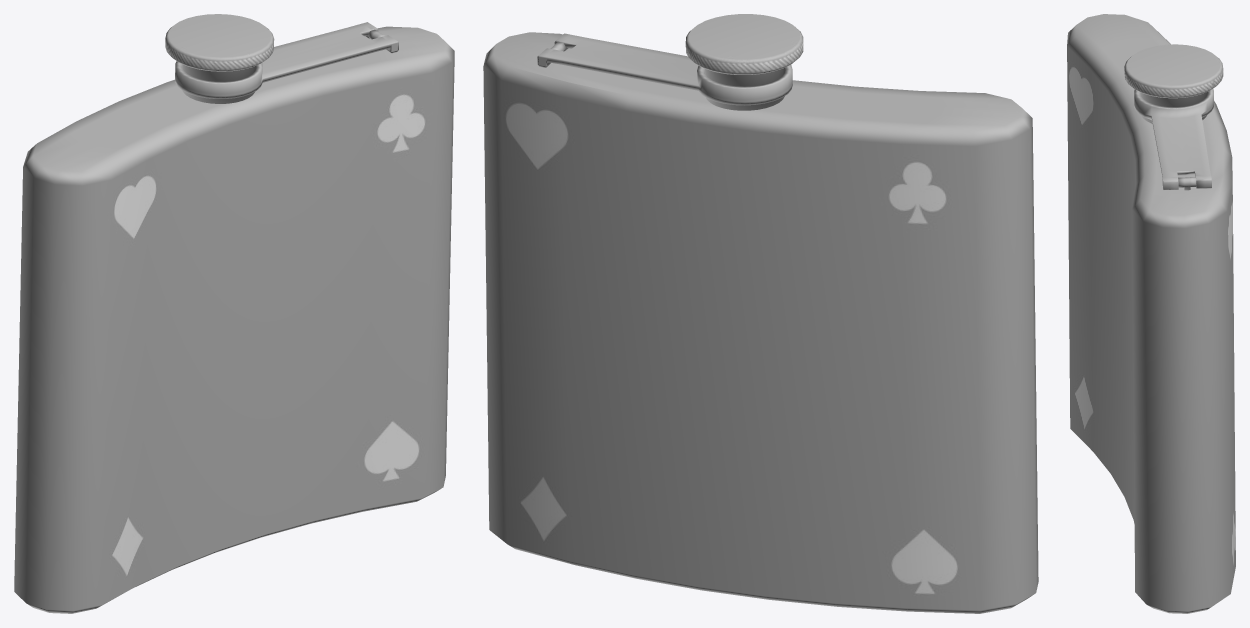
The model's file is flask.obj.
The picture shows the model from 3 angles, left to right: view 1: azimuth 30°, elevation 25°; view 2: azimuth 150°, elevation 25°; view 3: azimuth 270°, elevation 25°; orthographic projection. The views are drawn at different scales.
Visible parts, largest first — view 1: defaultMaterial_Merged_Pljoska.001; view 2: defaultMaterial_Merged_Pljoska.001; view 3: defaultMaterial_Merged_Pljoska.001.
Boxes of the visible parts, x1=… form: defaultMaterial_Merged_Pljoska.001: x1=14, y1=14, x2=454, y2=613; defaultMaterial_Merged_Pljoska.001: x1=483, y1=14, x2=1038, y2=613; defaultMaterial_Merged_Pljoska.001: x1=1067, y1=14, x2=1235, y2=613.
Size of the model in its own units: 0.6911 by 0.7134 by 0.2404.
1 material, 1 textured.
